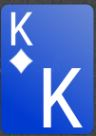Diamond: (9, 48, 35, 74)
